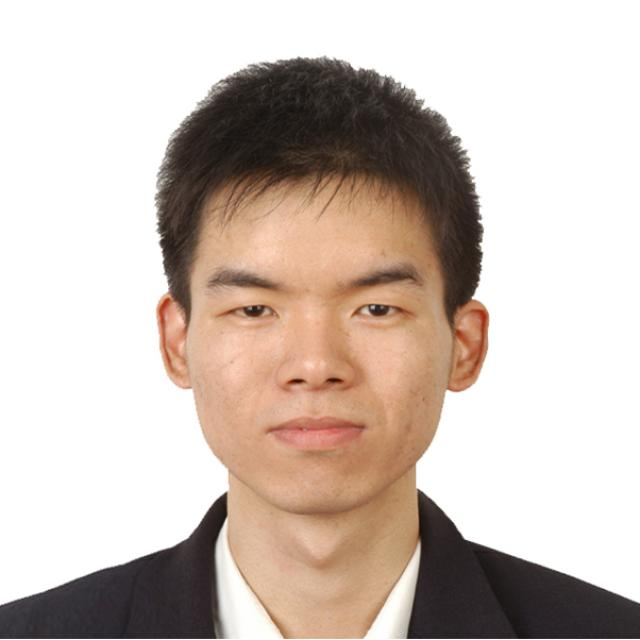Open: (216, 300, 284, 326), (350, 299, 406, 322)
